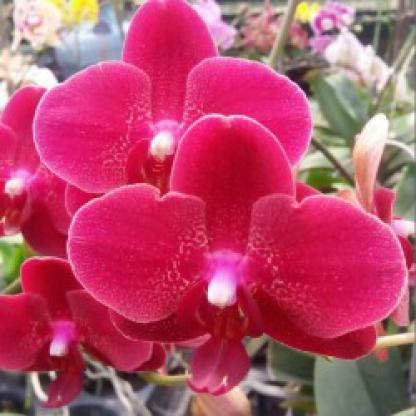ANGGREK: (15, 20, 406, 376)
